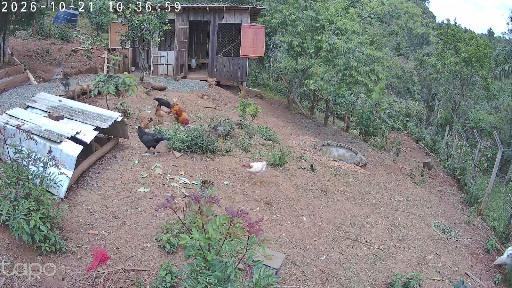frango: (241, 159, 266, 187), (59, 70, 70, 92), (52, 62, 62, 83)
galinha: (137, 126, 170, 154), (154, 104, 171, 124), (153, 96, 171, 108), (139, 115, 151, 132), (206, 75, 216, 89)
galo: (490, 246, 512, 276), (171, 100, 189, 126)
